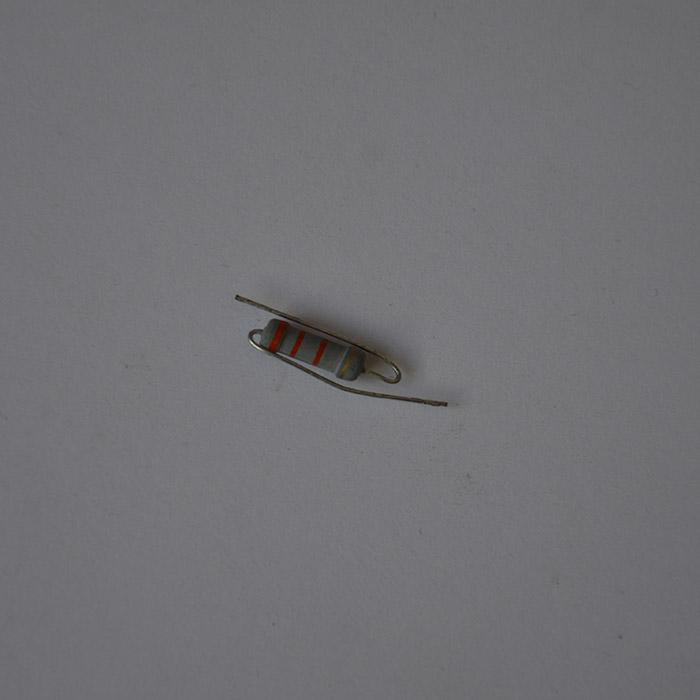resistor: (256, 317, 365, 380)
